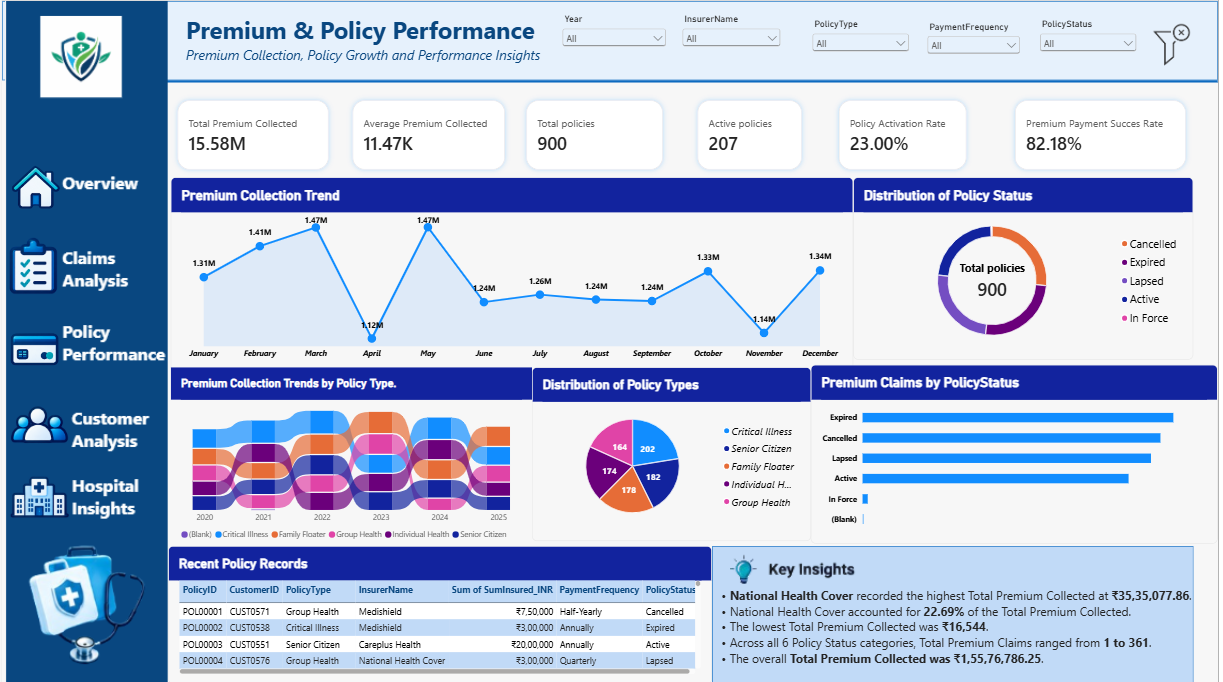

Layout of this report page (visuals, bound fields, positions):
{"tool":"powerbi","page":{"name":"Premium & Policy Performance","canvas":[1920,1080],"ordinal":2},"visuals":[{"type":"lineChart","title":"Premium Collection Trend","fields":{"Category":["Dim_Date.Date.Variation.Date Hierarchy.Month"],"Y":["DAX Measures.Total Premium Collected"]},"box":[266.5,278.3,1077.8,307.7],"z":0},{"type":"donutChart","title":"Distribution  of Policy Status","fields":{"Category":["Dim_Policy.PolicyStatus"],"Y":["DAX Measures.Total policies"]},"box":[1344.3,278.3,536.9,288.1],"z":1000},{"type":"barChart","title":"Distribution of  Policy Status for claimed Policies","fields":{"Category":["Dim_Policy.PolicyStatus"],"Y":["DAX Measures.Total Premium Claims"]},"box":[1277.7,574.2,642.7,282.2],"z":3000},{"type":"pieChart","title":"Distribution of Policy Types","fields":{"Category":["Dim_Policy.PolicyType"],"Y":["DAX Measures.Total policies"]},"box":[836.7,578.1,440.9,274.3],"z":4000},{"type":"tableEx","title":"Recent  Policy Records","fields":{"Values":["Dim_Policy.PolicyID","Dim_Policy.CustomerID","Dim_Policy.PolicyType","Dim_Policy.InsurerName","Sum(Dim_Policy.SumInsured_INR)","Dim_Policy.PaymentFrequency","Dim_Policy.PolicyStatus"]},"box":[262.6,860.3,858.3,219.5],"z":5000},{"type":"shape","box":[253.1,114,1666.9,20.5],"z":6000},{"type":"shape","box":[0,0,1920,125.2],"z":7000},{"type":"image","box":[0,0,267.1,1081],"z":8000},{"type":"image","box":[11.4,239.4,82.8,110.4],"z":9000},{"type":"image","box":[0,328.4,99.4,180.4],"z":10000},{"type":"image","box":[10,490.4,82.8,121.5],"z":11000},{"type":"image","box":[10,606.3,99.4,127],"z":12000},{"type":"image","box":[10,714.9,99.4,138],"z":13000},{"type":"textbox","box":[289.6,20.5,670.4,104.9],"z":14000},{"type":"image","box":[1790.2,30.9,112.7,75.1],"z":15000},{"type":"slicer","fields":{"Values":["Dim_Date.Date.Variation.Date Hierarchy.Year"]},"box":[880.2,20.5,173.3,82.1],"z":16000},{"type":"slicer","fields":{"Values":["Dim_Policy.InsurerName"]},"box":[1069.5,20.5,164.2,82.1],"z":17000},{"type":"slicer","fields":{"Values":["Dim_Policy.PolicyType"]},"box":[1274.7,27.4,161.9,82.1],"z":18000},{"type":"slicer","fields":{"Values":["Dim_Policy.PaymentFrequency"]},"box":[1457.1,31.9,155.1,82.1],"z":19000},{"type":"slicer","fields":{"Values":["Dim_Policy.PolicyStatus"]},"box":[1635,27.4,161.9,82.1],"z":20000},{"type":"cardVisual","fields":{"Data":["DAX Measures.Total Premium Collected"]},"box":[266.5,147,260.6,131.3],"z":21000},{"type":"cardVisual","fields":{"Data":["DAX Measures.Average Premium Collected"]},"box":[542.8,147,262.6,131.3],"z":22000},{"type":"cardVisual","fields":{"Data":["DAX Measures.Total policies"]},"box":[817.1,147,237.1,131.3],"z":23000},{"type":"cardVisual","fields":{"Data":["DAX Measures.Active policies"]},"box":[1087.6,147,186.2,131.3],"z":24000},{"type":"cardVisual","fields":{"Data":["DAX Measures.Policy Activation Rate"]},"box":[1311,147,223.4,131.3],"z":25000},{"type":"cardVisual","fields":{"Data":["DAX Measures.Premium Payment Succes Rate"]},"box":[1589.2,147,292,131.3],"z":26000},{"type":"shape","box":[1120.9,860.3,760.3,219.5],"z":27000},{"type":"image","box":[1120.9,860.3,282.2,64.7],"z":28000},{"type":"textbox","box":[1120.9,924.9,760.3,154.8],"z":29000},{"type":"ribbonChart","title":"Premium Collection Trends by Policy Type.","fields":{"Category":["Dim_Date.Date.Variation.Date Hierarchy.Year"],"Series":["Dim_Policy.PolicyType"],"Y":["DAX Measures.Total Premium Collected"]},"box":[266.5,578.1,570.2,293.9],"z":29001}]}

Visuals, with their boxes in screenshot pixels (x1, y1, x2, y2), scaled from the page's 1920x1080 canvas onto the 1223x682 screenshot:
"Premium Collection Trend" lineChart: 170:176:856:370
"Distribution  of Policy Status" donutChart: 856:176:1198:358
"Distribution of  Policy Status for claimed Policies" barChart: 814:363:1222:541
"Distribution of Policy Types" pieChart: 533:365:814:538
"Recent  Policy Records" tableEx: 167:543:714:681
shape: 161:72:1222:85
shape: 0:0:1222:79
image: 0:0:170:681
image: 7:151:60:221
image: 0:207:63:321
image: 6:310:59:386
image: 6:383:70:463
image: 6:451:70:539
textbox: 184:13:612:79
image: 1140:20:1212:67
slicer - Dim_Date.Date.Variation.Date Hierarchy.Year: 561:13:671:65
slicer - Dim_Policy.InsurerName: 681:13:786:65
slicer - Dim_Policy.PolicyType: 812:17:915:69
slicer - Dim_Policy.PaymentFrequency: 928:20:1027:72
slicer - Dim_Policy.PolicyStatus: 1041:17:1145:69
cardVisual - DAX Measures.Total Premium Collected: 170:93:336:176
cardVisual - DAX Measures.Average Premium Collected: 346:93:513:176
cardVisual - DAX Measures.Total policies: 520:93:672:176
cardVisual - DAX Measures.Active policies: 693:93:811:176
cardVisual - DAX Measures.Policy Activation Rate: 835:93:977:176
cardVisual - DAX Measures.Premium Payment Succes Rate: 1012:93:1198:176
shape: 714:543:1198:681
image: 714:543:894:584
textbox: 714:584:1198:681
"Premium Collection Trends by Policy Type." ribbonChart: 170:365:533:551
